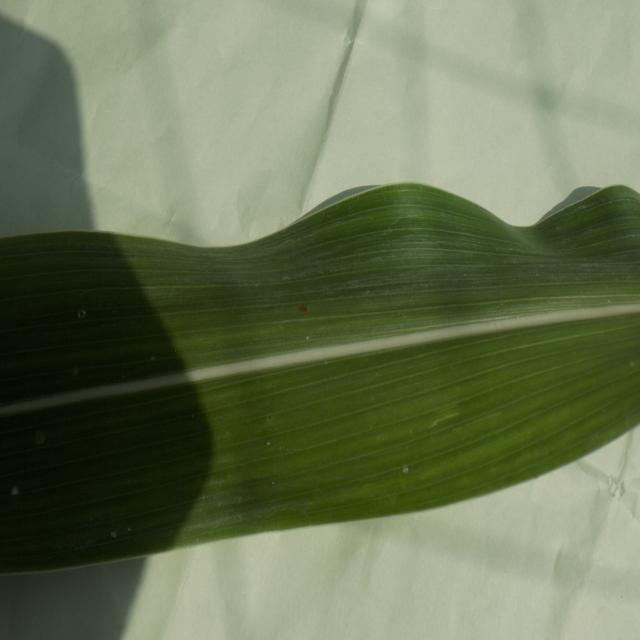millet_healthy: (0, 186, 640, 572)
